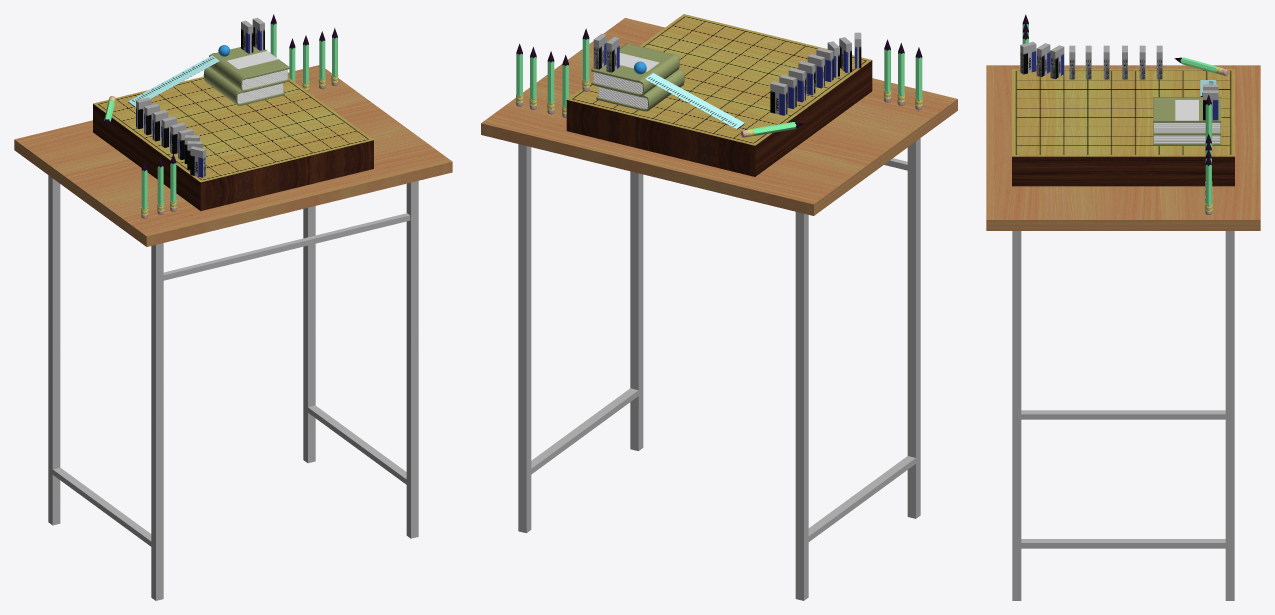
File: slider_on_desk_limes_v2.glb
3 renders of one model, left to right at view 1: azimuth 30°, elevation 25°; view 2: azimuth 150°, elevation 25°; view 3: azimuth 270°, elevation 25°, orthographic. The views are drawn at different scales.
Visible parts, largest first — view 1: board, desk_top, desk_leg4, desk_leg2, desk_leg3, book_close_paper.016_Cube.017, desk_leg1, desk_bar_top_1to3, desk_bar_bottom_3to4, desk_bar_bottom_1to2, Ruler; view 2: board, desk_top, desk_leg3, desk_leg1, desk_leg4, book_close_paper.016_Cube.017, desk_leg2, desk_bar_bottom_3to4, desk_bar_bottom_1to2, Ruler; view 3: board, desk_top, desk_leg1, desk_leg2, book_close_paper.016_Cube.017, desk_bar_bottom_1to2, desk_bar_bottom_3to4, eraser11, eraser10, eraser09, Dwarf_Pencil06, Dwarf_Pencil01.
Part boxes in pixels (x1,y1,x2,y2): board: (93,76,373,210); desk_top: (14,65,452,246); desk_leg4: (151,243,163,600); desk_leg2: (406,181,418,538); desk_leg3: (48,175,60,525); book_close_paper.016_Cube.017: (203,46,289,105); desk_leg1: (303,206,315,463); desk_bar_top_1to3: (163,213,410,280); desk_bar_bottom_3to4: (50,467,153,546); desk_bar_bottom_1to2: (308,405,408,485); Ruler: (128,55,219,107); board: (566,14,872,176); desk_top: (481,18,957,215); desk_leg3: (795,212,808,600); desk_leg1: (518,144,531,533); desk_leg4: (907,138,920,518); book_close_paper.016_Cube.017: (591,43,684,111); desk_leg2: (630,171,643,450); desk_bar_bottom_3to4: (808,456,918,541); desk_bar_bottom_1to2: (529,388,638,474); Ruler: (645,73,744,129); board: (1012,69,1234,186); desk_top: (986,65,1260,230); desk_leg1: (1225,231,1234,600); desk_leg2: (1012,231,1021,600); book_close_paper.016_Cube.017: (1153,97,1221,145); desk_bar_bottom_1to2: (1017,539,1229,548); desk_bar_bottom_3to4: (1021,410,1225,419); eraser11: (1020,41,1036,74); eraser10: (1036,43,1050,77); eraser09: (1050,45,1064,79); Dwarf_Pencil06: (1174,57,1228,75); Dwarf_Pencil01: (1205,155,1212,214).
Size of the model in its own units: 12 by 17.44 by 9.
24 materials, 16 textured.
